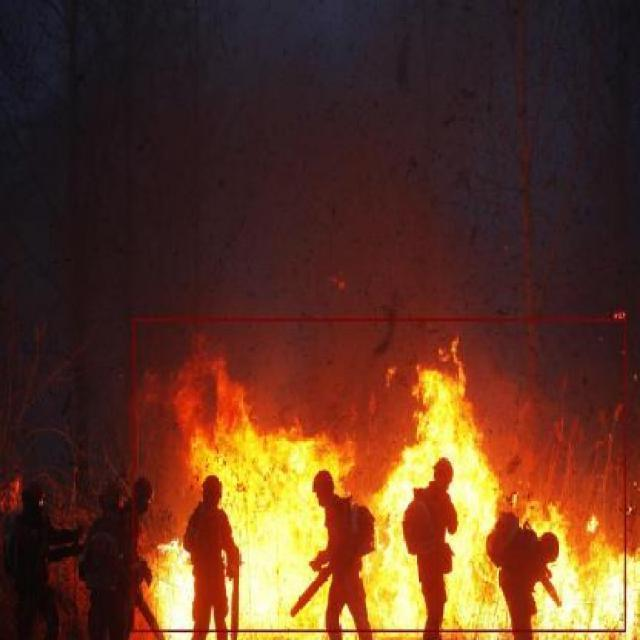Fire: (128, 356, 640, 636)
Smoke: (24, 0, 592, 475)
